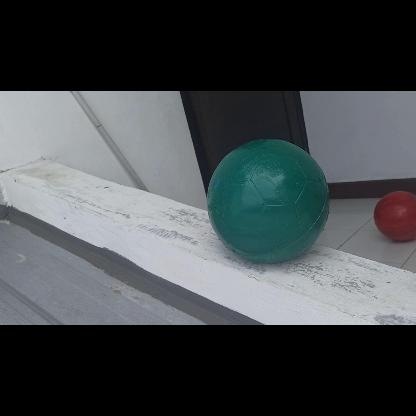green_ball: (206, 140, 330, 264)
